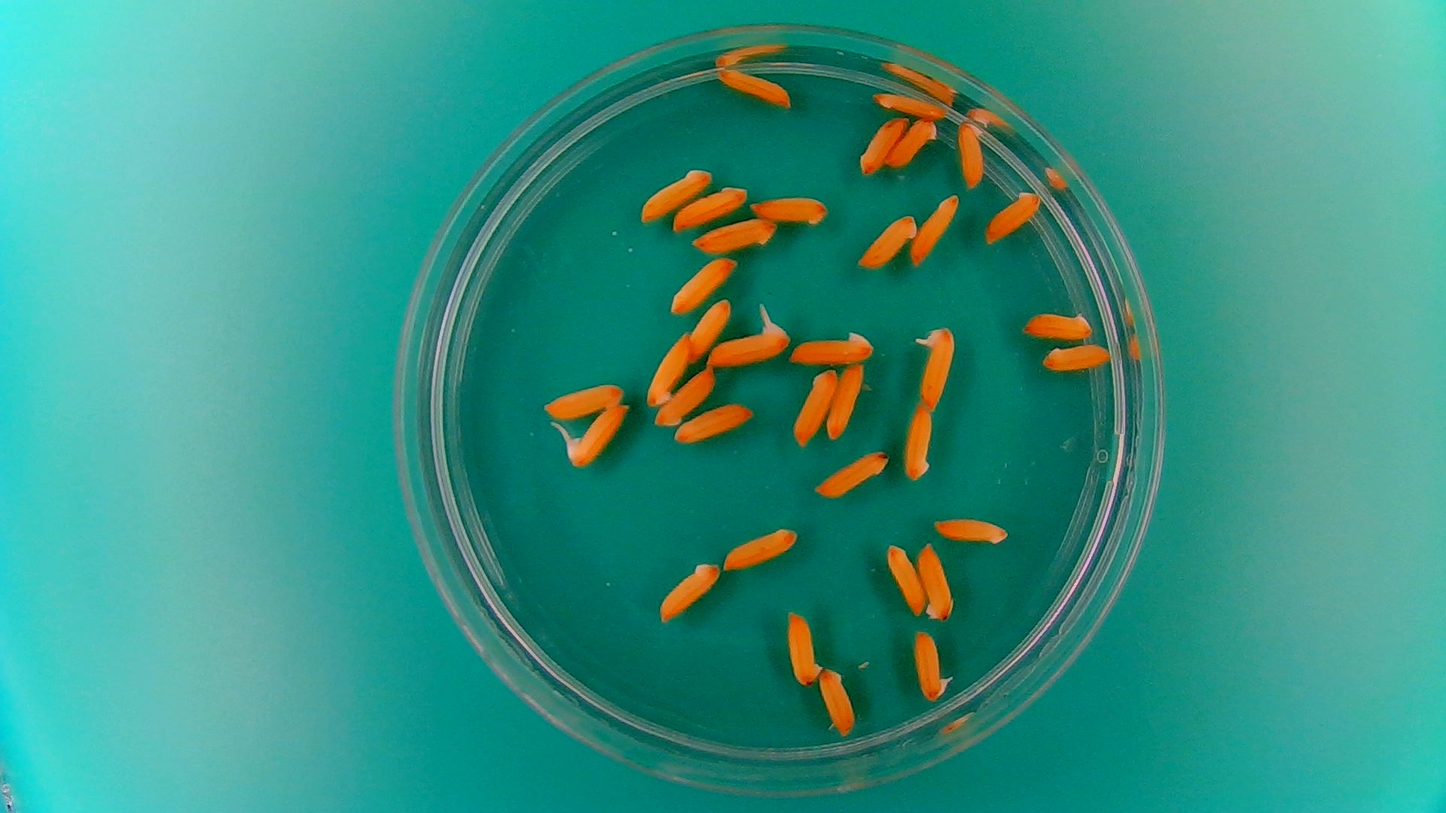no: (636, 163, 712, 224), (653, 361, 718, 429), (667, 254, 739, 315), (657, 559, 721, 624), (909, 189, 961, 269), (812, 447, 892, 498), (672, 181, 749, 233), (792, 365, 841, 446), (855, 210, 920, 271), (712, 62, 795, 109), (673, 399, 756, 446), (720, 523, 799, 571), (645, 330, 694, 407), (823, 358, 866, 443), (982, 186, 1043, 245), (539, 379, 626, 420), (690, 216, 777, 256), (883, 538, 927, 617), (867, 85, 955, 123), (687, 296, 735, 364), (787, 330, 874, 367), (1017, 303, 1099, 342), (884, 116, 942, 170), (784, 606, 822, 688), (856, 114, 906, 176), (747, 191, 832, 227), (917, 545, 955, 624), (901, 400, 936, 483), (818, 665, 857, 739), (931, 513, 1011, 547), (1039, 340, 1115, 374), (955, 120, 987, 190)
yes: (703, 317, 787, 370), (911, 321, 957, 410), (563, 404, 629, 466), (914, 627, 953, 705)
